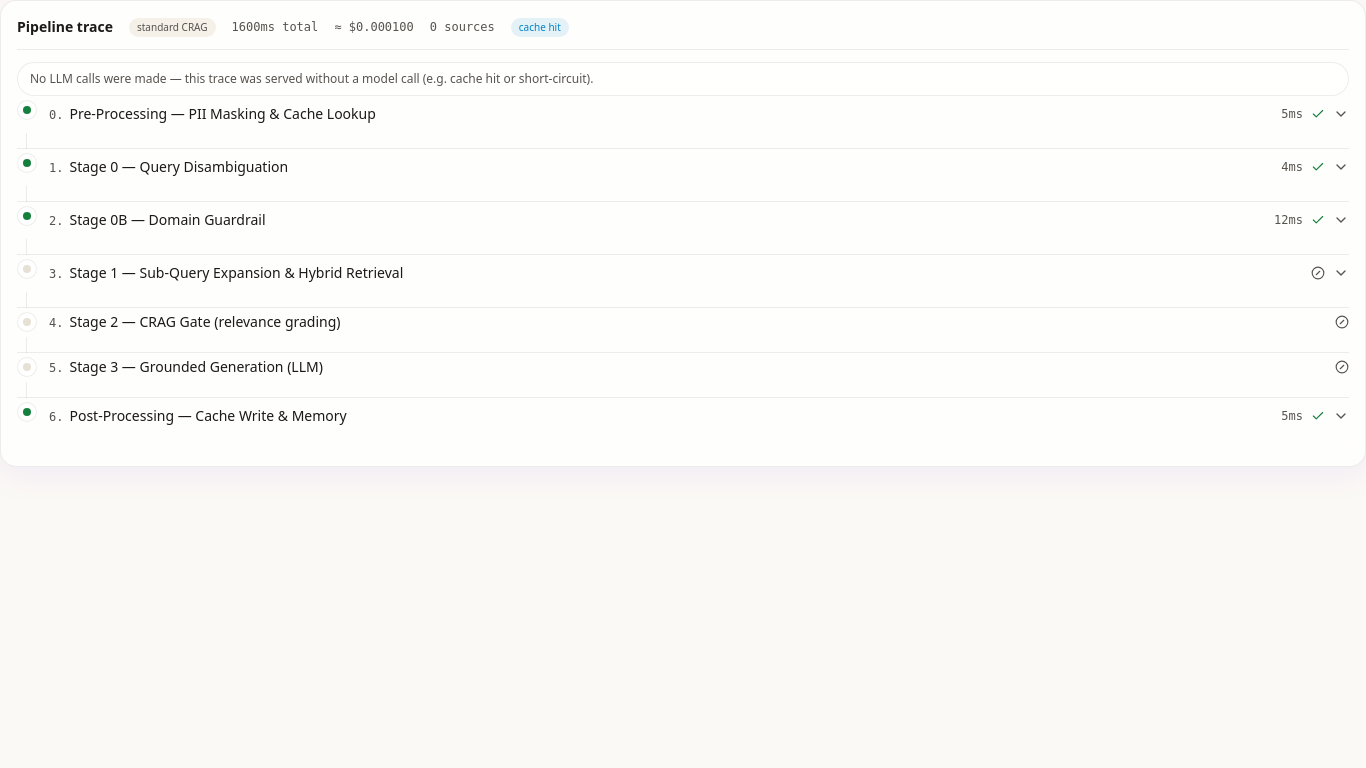
PipelineVisualizer — standard CRAG trace › renders the cache-hit short-circuit (retrieval + gate + generation skipped)
expect the text "cache hit" is shown: met, box [511, 18, 569, 36]
Click the button with aria-label "Expand ".
click(223, 114)  # box [49, 96, 1349, 132]
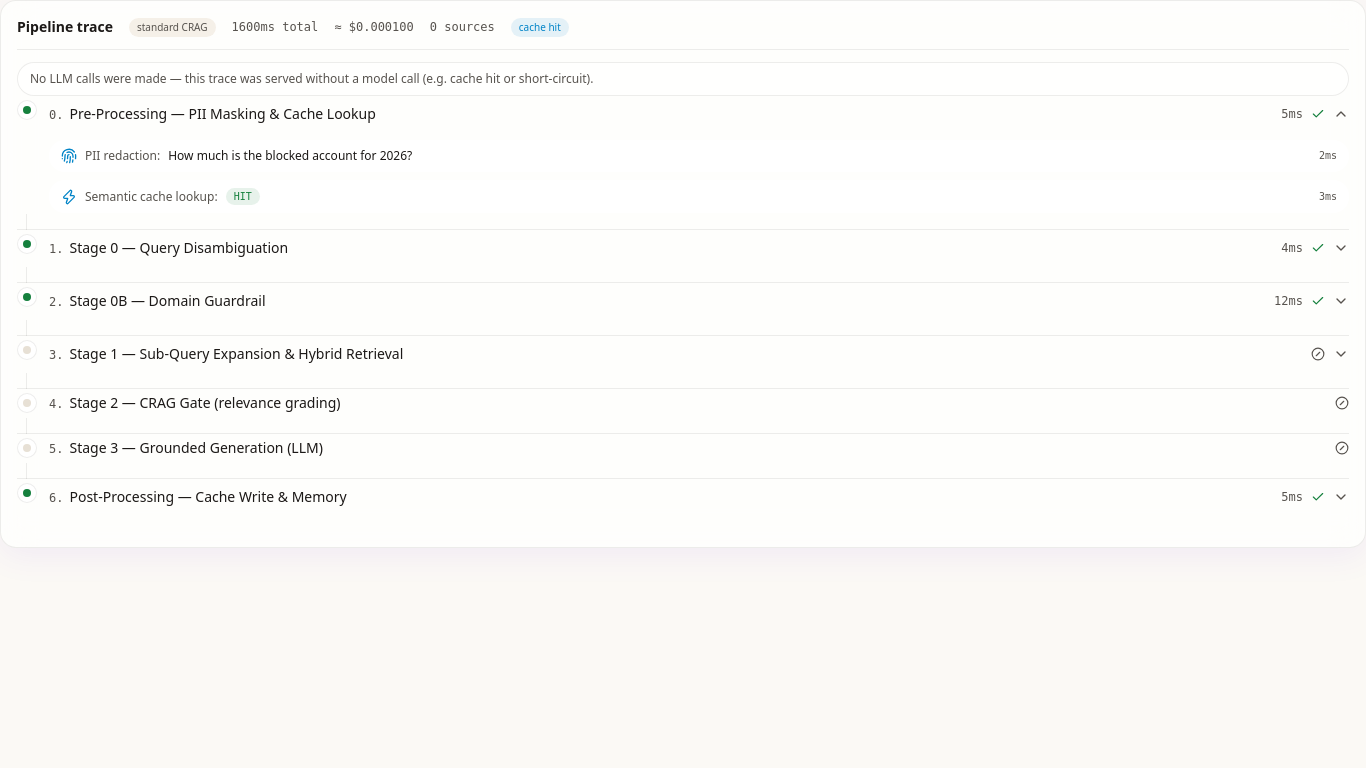
Click the button with aria-label "Expand ".
click(179, 248)  # box [49, 230, 1349, 266]
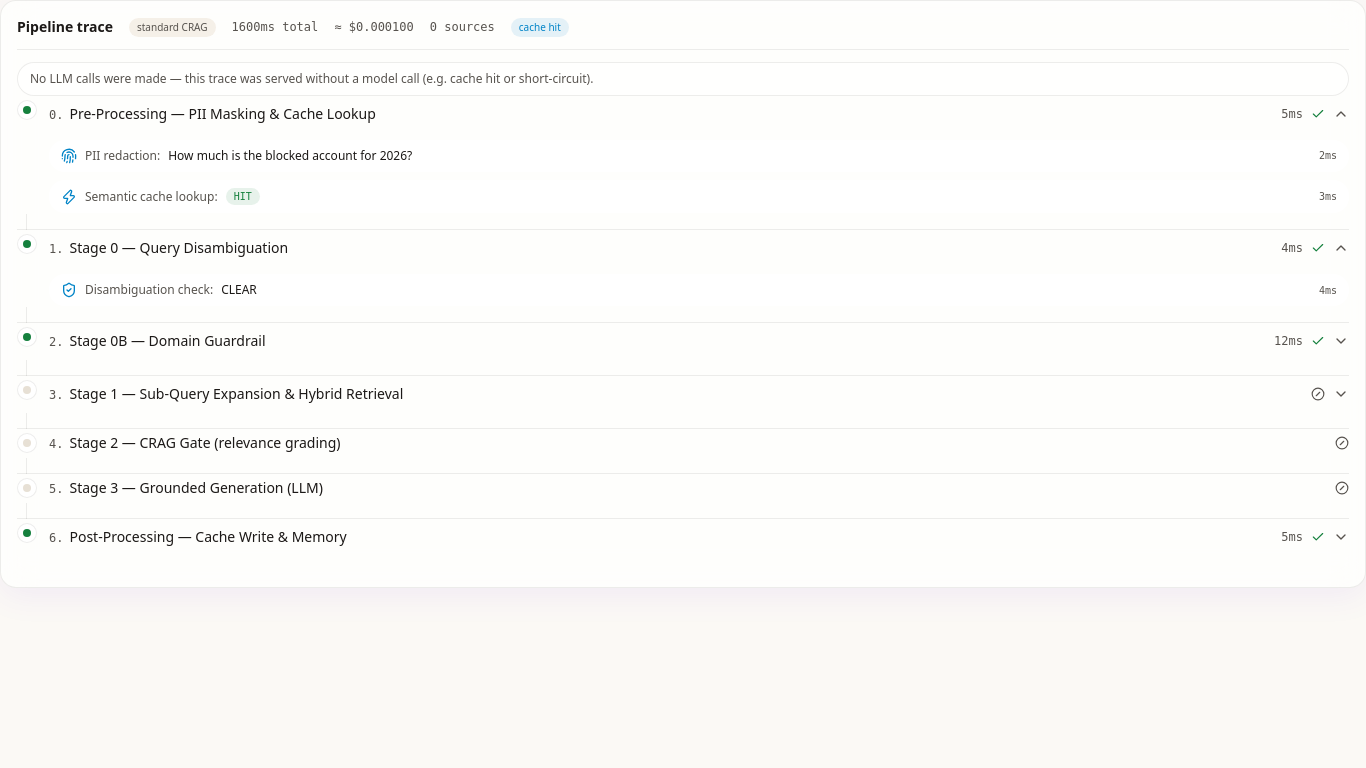
Click the button with aria-label "Expand ".
click(168, 341)  # box [49, 323, 1349, 359]
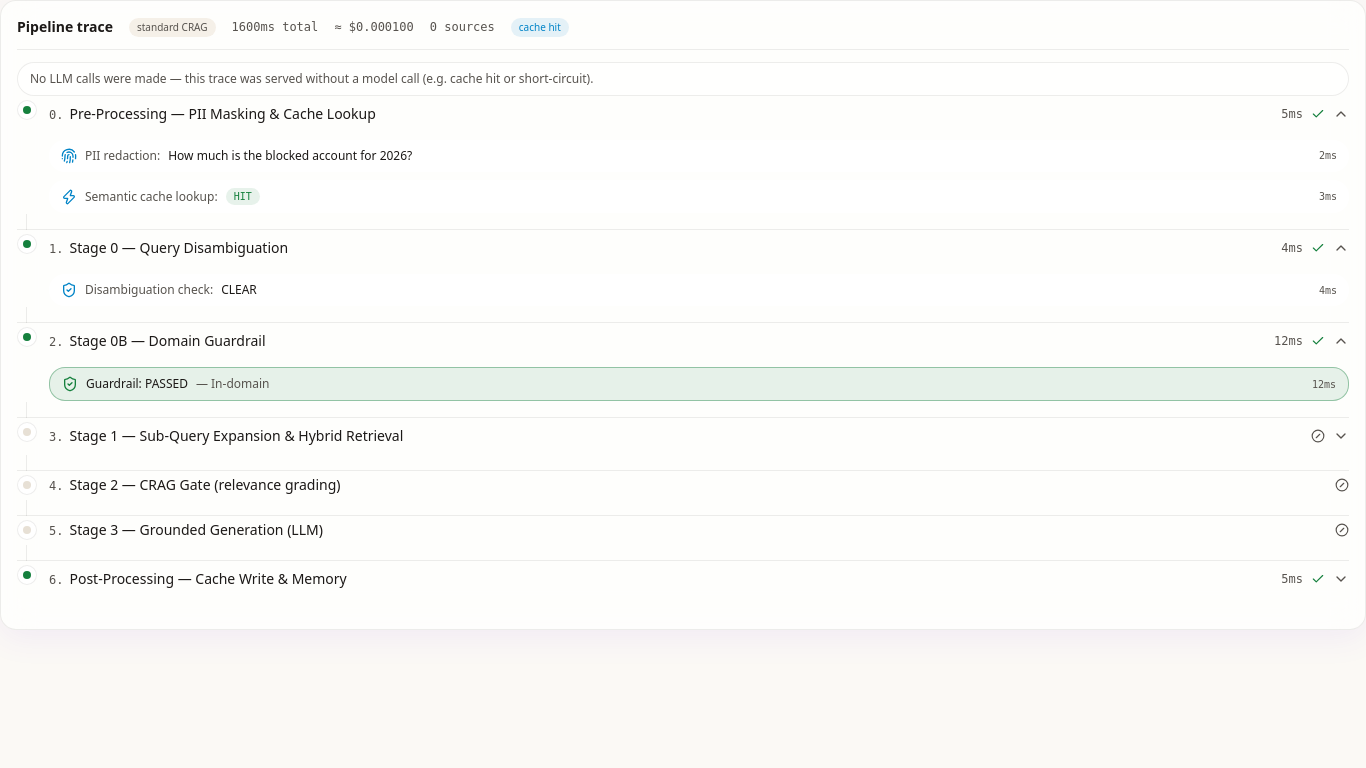
Click the button with aria-label "Expand ".
click(236, 436)  # box [49, 418, 1349, 454]
(page scrolled)
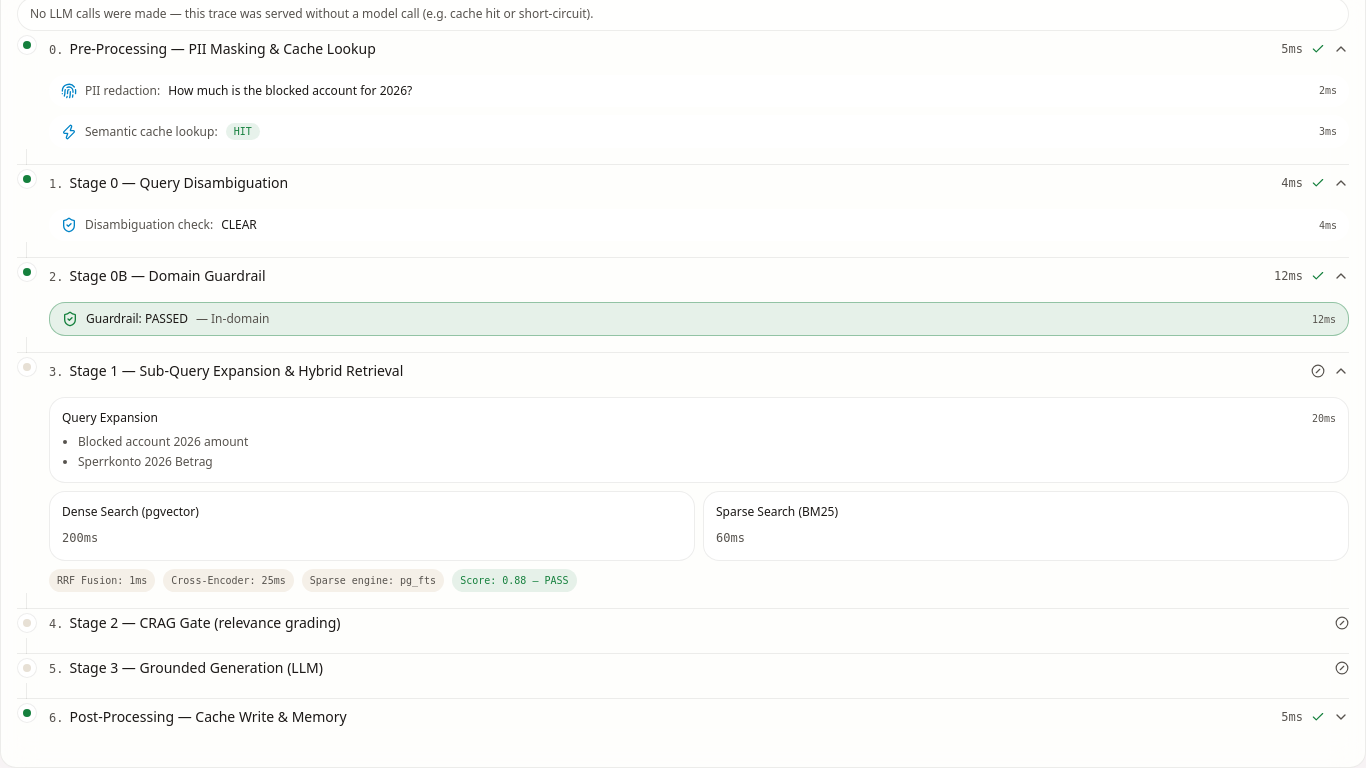
Click the button with aria-label "Expand ".
click(208, 717)  # box [49, 699, 1349, 735]
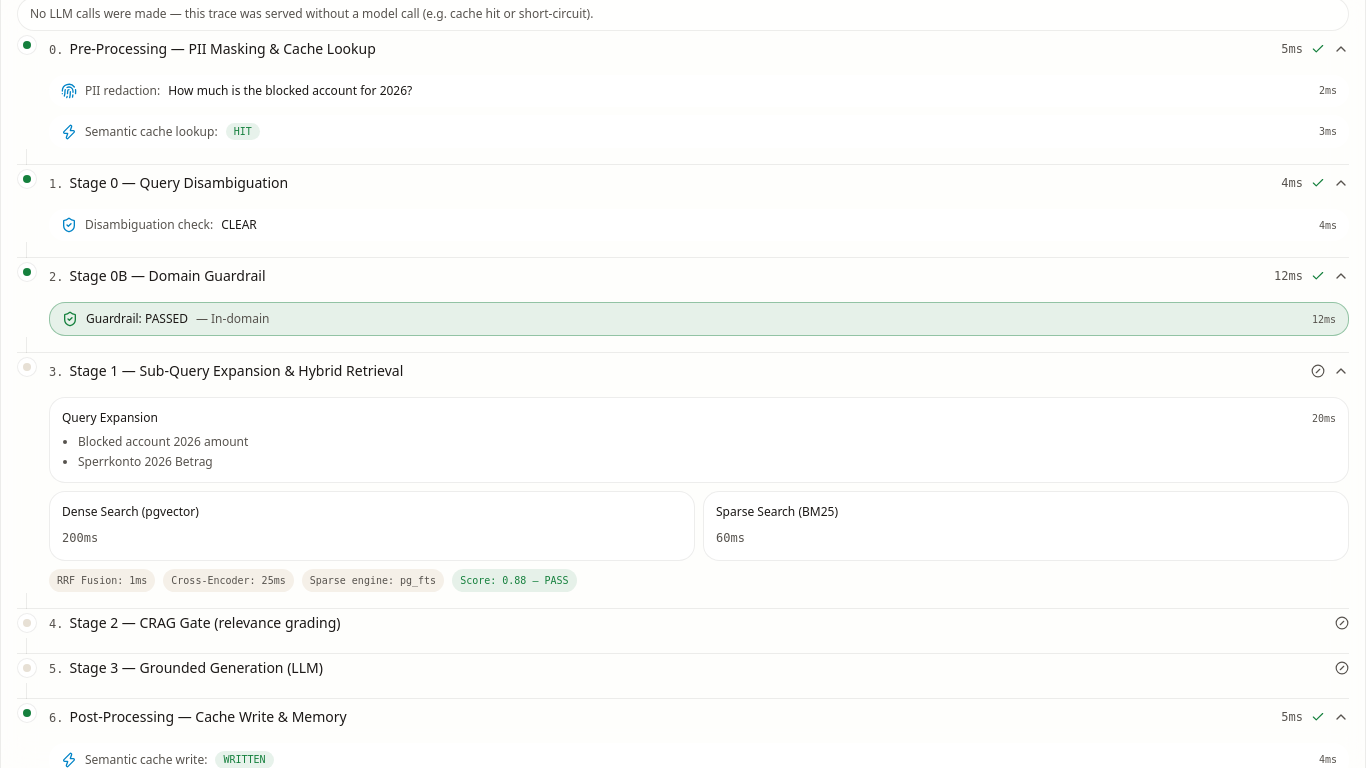
expect the text "HIT" is shown: met, box [226, 123, 260, 140]
expect the text "WRITTEN" is shown: met, box [215, 751, 274, 767]
